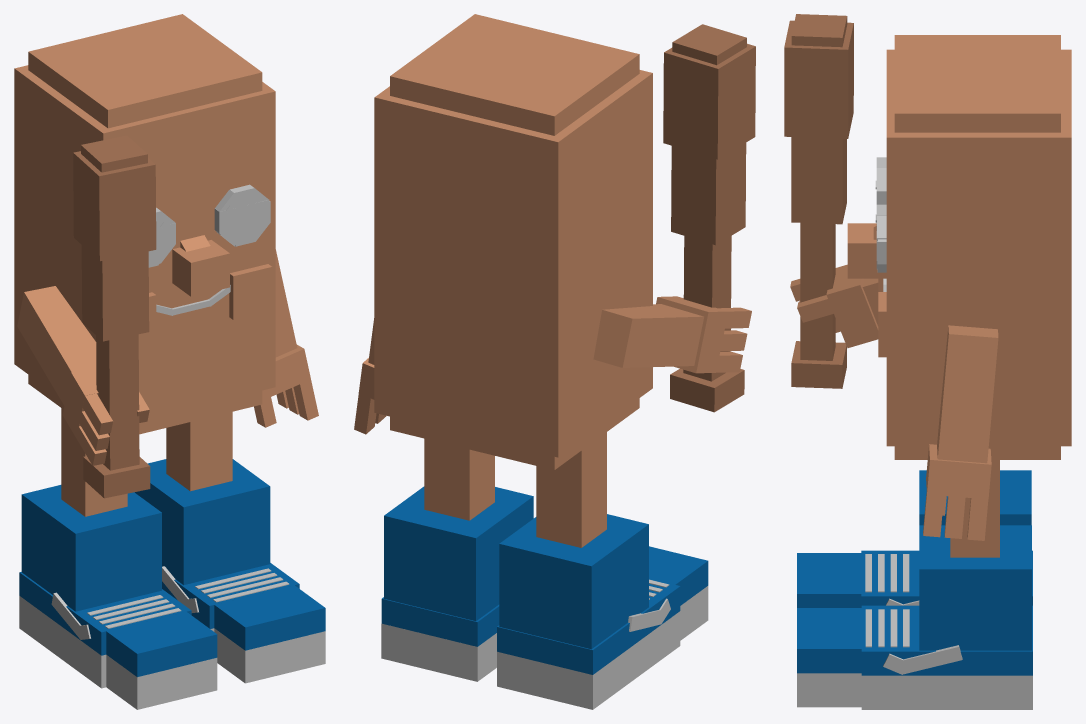
3 renders of one model, left to right at view 1: azimuth 30°, elevation 25°; view 2: azimuth 150°, elevation 25°; view 3: azimuth 270°, elevation 25°, orthographic. The views are drawn at different scales.
Parts seen in each view (by area): view 1: Pack 9.003; view 2: Pack 9.003; view 3: Pack 9.003.
Part boxes in pixels (x1=…): Pack 9.003: x1=14, y1=14, x2=325, y2=709; Pack 9.003: x1=354, y1=14, x2=755, y2=709; Pack 9.003: x1=784, y1=14, x2=1071, y2=709.
Bounding box in the file's own units: 167 × 316 × 141.
